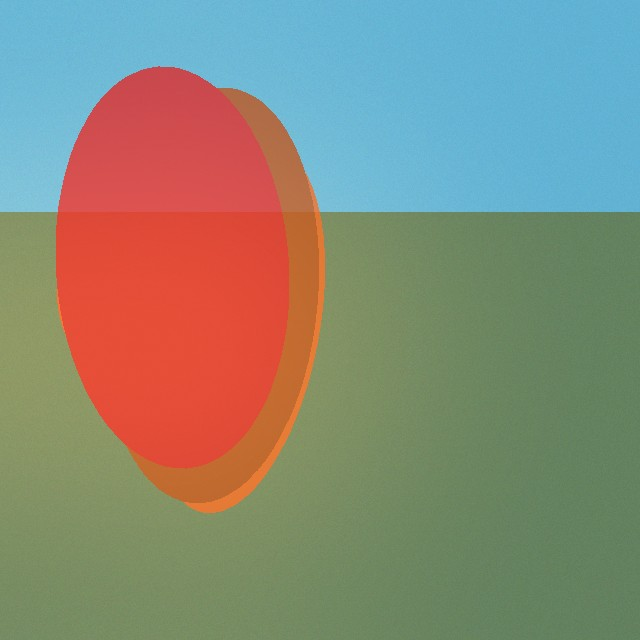fire: (121, 195, 257, 499)
